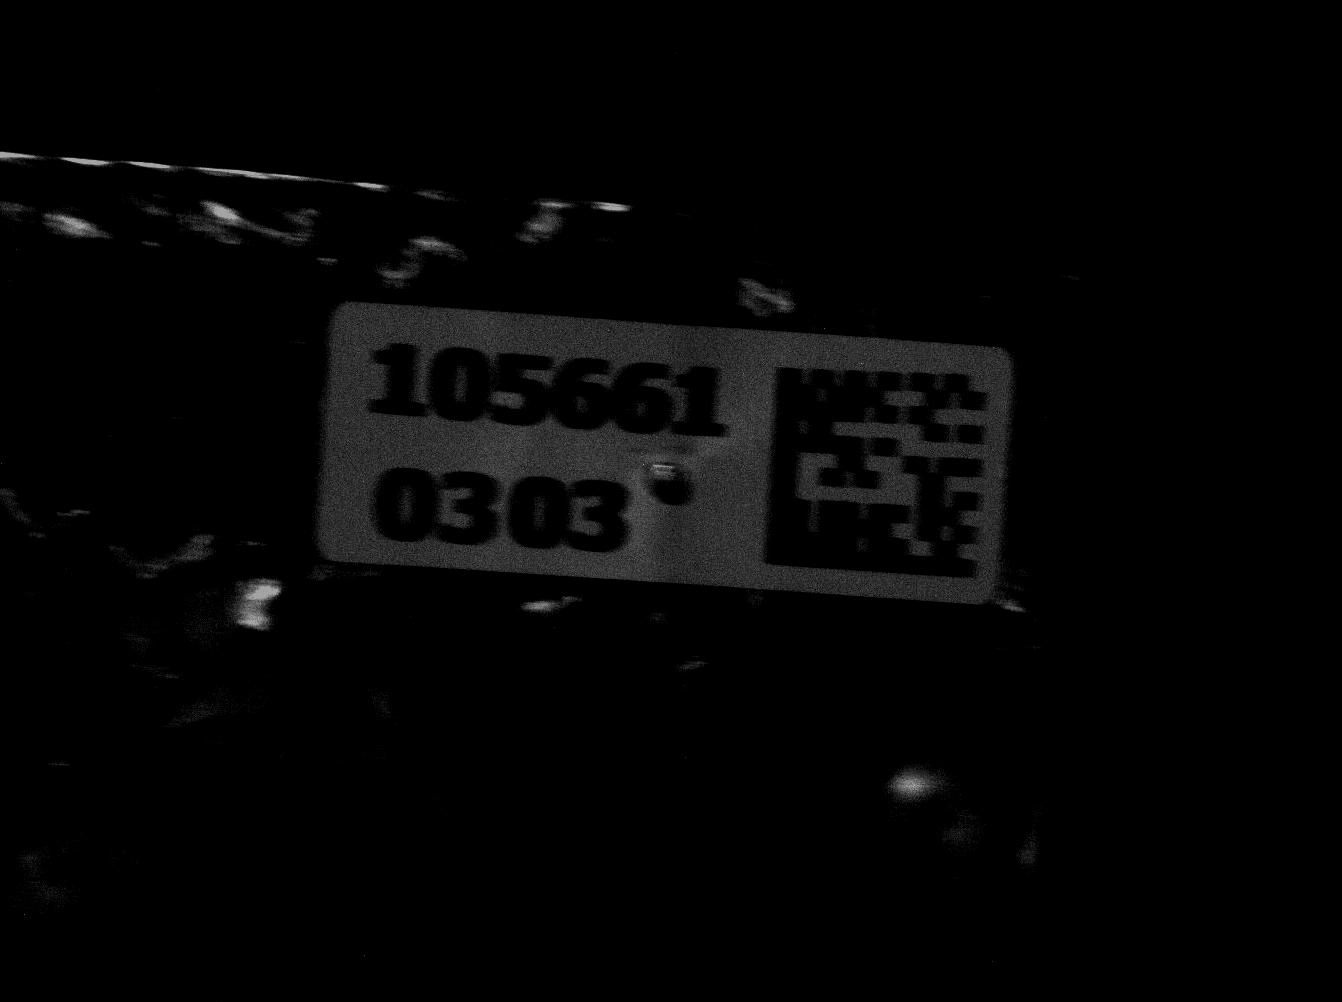data matrix: (755, 356, 1001, 589)
